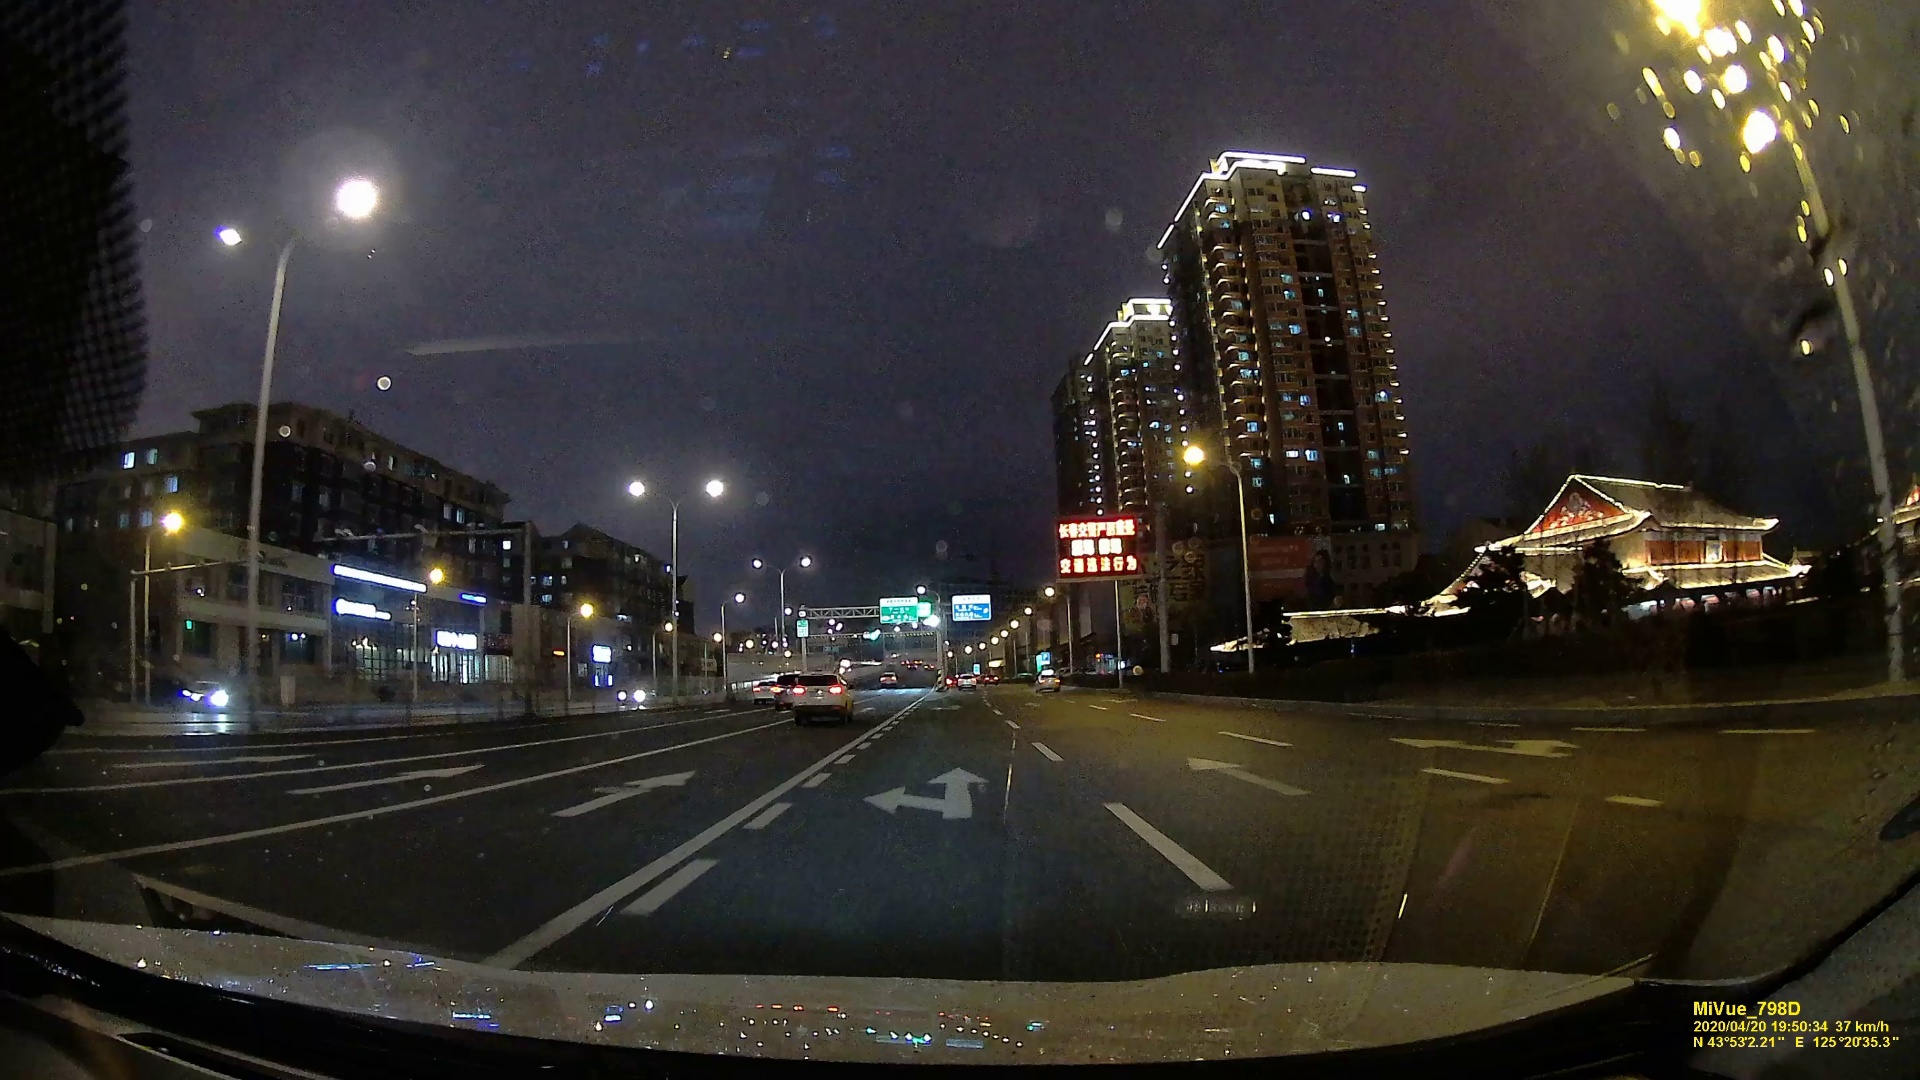traffic_sign: (952, 593, 990, 618), (880, 597, 916, 621)
vehicle: (791, 673, 853, 717), (182, 680, 229, 711), (618, 680, 655, 703), (1035, 673, 1062, 692), (957, 673, 977, 688)
